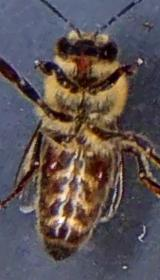varroa_mite: (32, 149, 70, 181), (86, 156, 112, 194)
